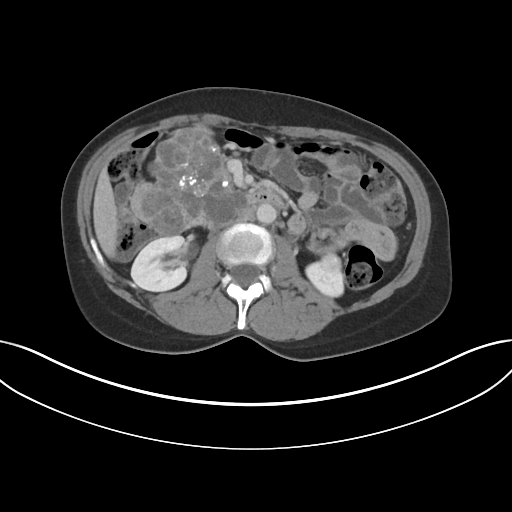Lesion: (318, 254, 341, 275)
